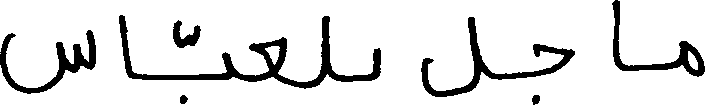ا: (114, 12, 134, 78), (611, 0, 624, 71)
ب: (175, 50, 235, 104), (369, 46, 380, 81)
ج: (531, 42, 574, 103)
س: (0, 27, 97, 93)
ع: (245, 35, 285, 84)
ل: (418, 14, 481, 96), (318, 13, 331, 84)
م: (675, 38, 702, 77)
